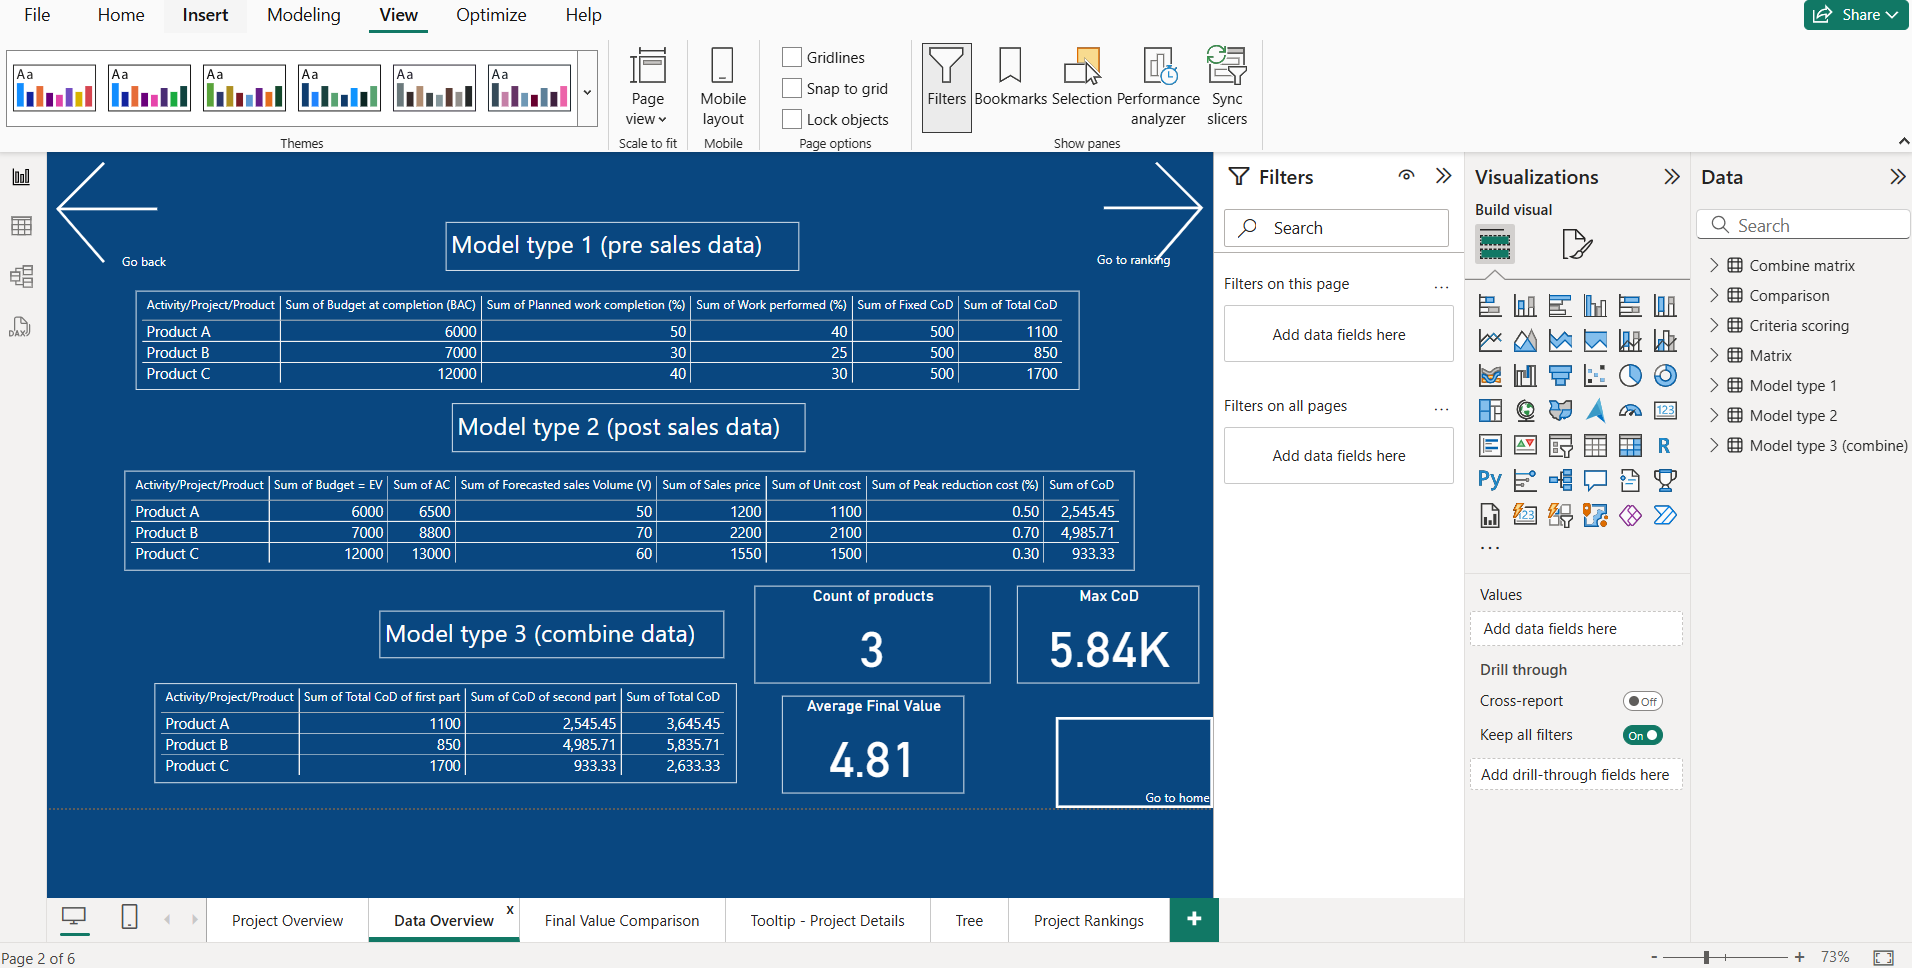

The page's visual inventory and layout, read from the dashboard file:
{"tool":"powerbi","page":{"name":"Data Overview","canvas":[1280,720],"ordinal":1},"visuals":[{"type":"tableEx","fields":{"Values":["Model type 1.Activity/Project/Product","Sum(Model type 1.Budget at completion (BAC))","Sum(Model type 1.Planned work completion (%))","Sum(Model type 1.Work performed (%))","Sum(Model type 1.Fixed CoD)","Sum(Model type 1.Total CoD)"]},"box":[97.4,152.3,1036,108.4],"z":0},{"type":"tableEx","fields":{"Values":["Model type 2.Activity/Project/Product","Sum(Model type 2.Budget = EV)","Sum(Model type 2.AC)","Sum(Model type 2.Forecasted sales Volume (V))","Sum(Model type 2.Sales price)","Sum(Model type 2.Unit cost)","Sum(Model type 2.Peak reduction cost (%))","Sum(Model type 2.CoD)"]},"box":[85.1,349.9,1108.8,109.8],"z":1000},{"type":"tableEx","fields":{"Values":["Model type 3 (combine).Activity/Project/Product","Sum(Model type 3 (combine).Total CoD of first part)","Sum(Model type 3 (combine).CoD of second part)","Sum(Model type 3 (combine).Total CoD)"]},"box":[118,583.2,639.5,109.8],"z":2000},{"type":"textbox","box":[437.7,76.8,388.3,53.5],"z":3000},{"type":"textbox","box":[444.6,275.8,388.3,53.5],"z":4000},{"type":"textbox","box":[365,503.6,378.7,52.1],"z":5000},{"type":"card","title":"Count of products","fields":{"Values":["CountNonNull(Combine matrix.Activity/Project/Product)"]},"box":[776.7,476.2,259.3,107],"z":6000},{"type":"card","title":"Max CoD","fields":{"Values":["Max(Combine matrix.CoD)"]},"box":[1064.8,476.2,200.3,107],"z":7000},{"type":"card","title":"Average Final Value","fields":{"Values":["Avg(Combine matrix.Final value)"]},"box":[806.9,596.9,200.3,107],"z":8000},{"type":"actionButton","box":[1148.3,0,131.7,130.4],"z":8003},{"type":"actionButton","box":[0,0,134.5,133.1],"z":8004},{"type":"actionButton","box":[1107.1,619.8,172.9,100.2],"z":8005}]}

Visuals, with their boxes on the page's 1280x720 design canvas (x1, y1, x2, y2). These are canvas units, not pixel positions in the 1912x968 screenshot, which may show the page scaled, cropped or inside an application window:
tableEx - Model type 1.Activity/Project/Product x Sum(Model type 1.Budget at completion (BAC)): rect(97, 152, 1133, 261)
tableEx - Model type 2.Activity/Project/Product x Sum(Model type 2.Budget = EV): rect(85, 350, 1194, 460)
tableEx - Model type 3 (combine).Activity/Project/Product x Sum(Model type 3 (combine).Total CoD of first part): rect(118, 583, 758, 693)
textbox: rect(438, 77, 826, 130)
textbox: rect(445, 276, 833, 329)
textbox: rect(365, 504, 744, 556)
"Count of products" card: rect(777, 476, 1036, 583)
"Max CoD" card: rect(1065, 476, 1265, 583)
"Average Final Value" card: rect(807, 597, 1007, 704)
actionButton: rect(1148, 0, 1280, 130)
actionButton: rect(0, 0, 134, 133)
actionButton: rect(1107, 620, 1280, 720)
